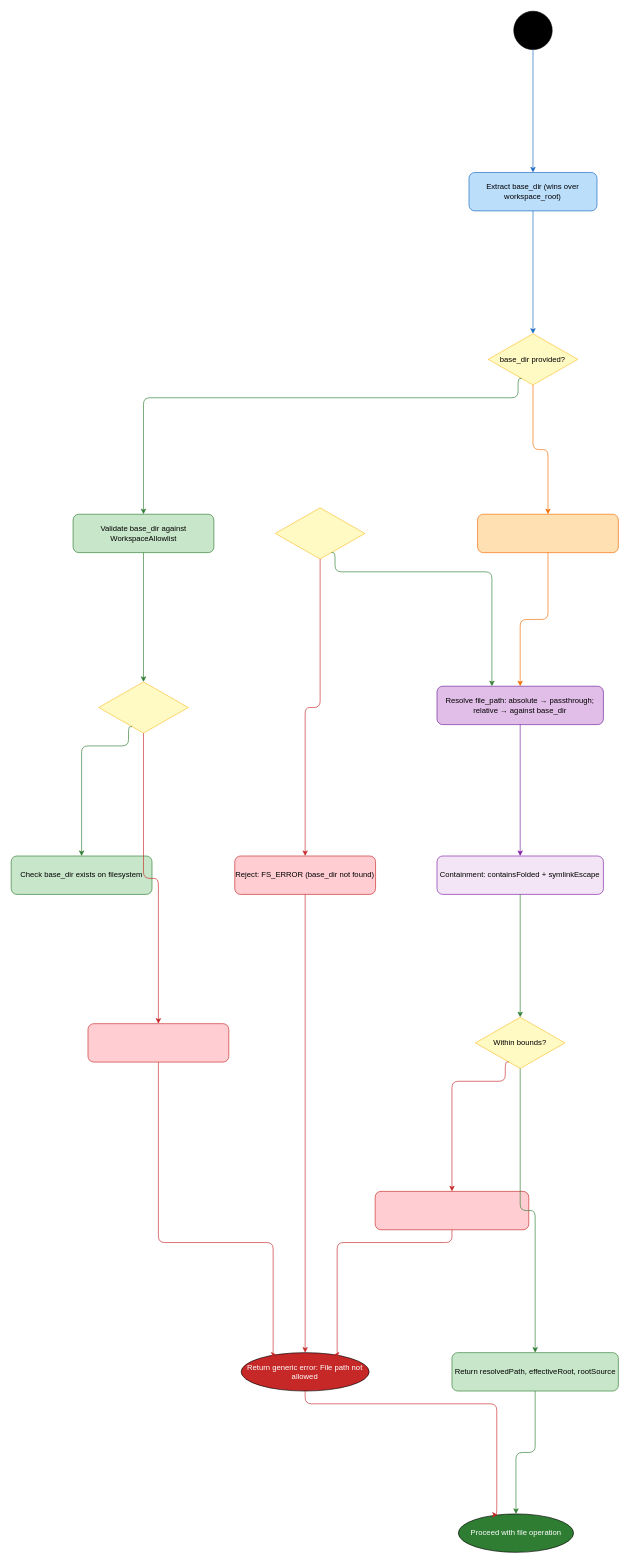
Image size: 630x1564. Some labels were removed from this diagram. Each missing label, with the box of its shape:
Directory exists?: (275, 507, 365, 559)
In allowlist?: (98, 681, 188, 733)
Legacy: resolve against primary workspace: (477, 514, 618, 553)
Reject: PATH_REJECTED_OUTSIDE_ALLOWLIST: (87, 1023, 229, 1062)
Reject: PATH_REJECTED_OUTSIDE_ALLOWLIST (containment): (375, 1191, 529, 1230)
Start: (513, 11, 552, 50)
